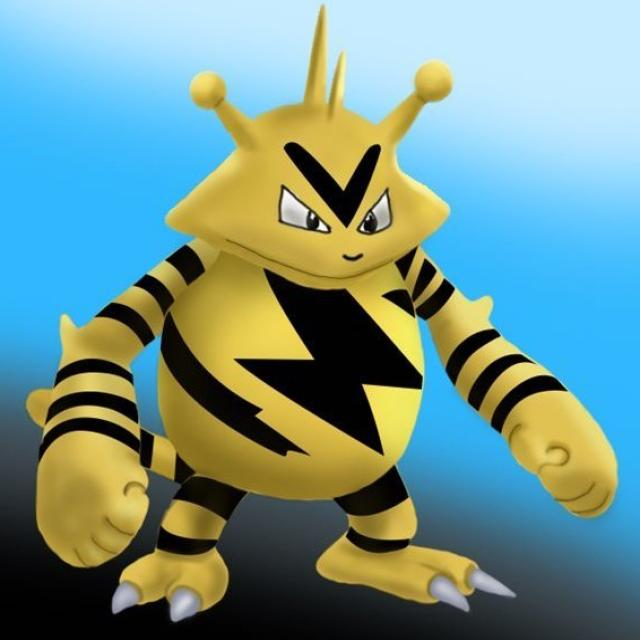Electabuzz: (38, 65, 559, 609)
